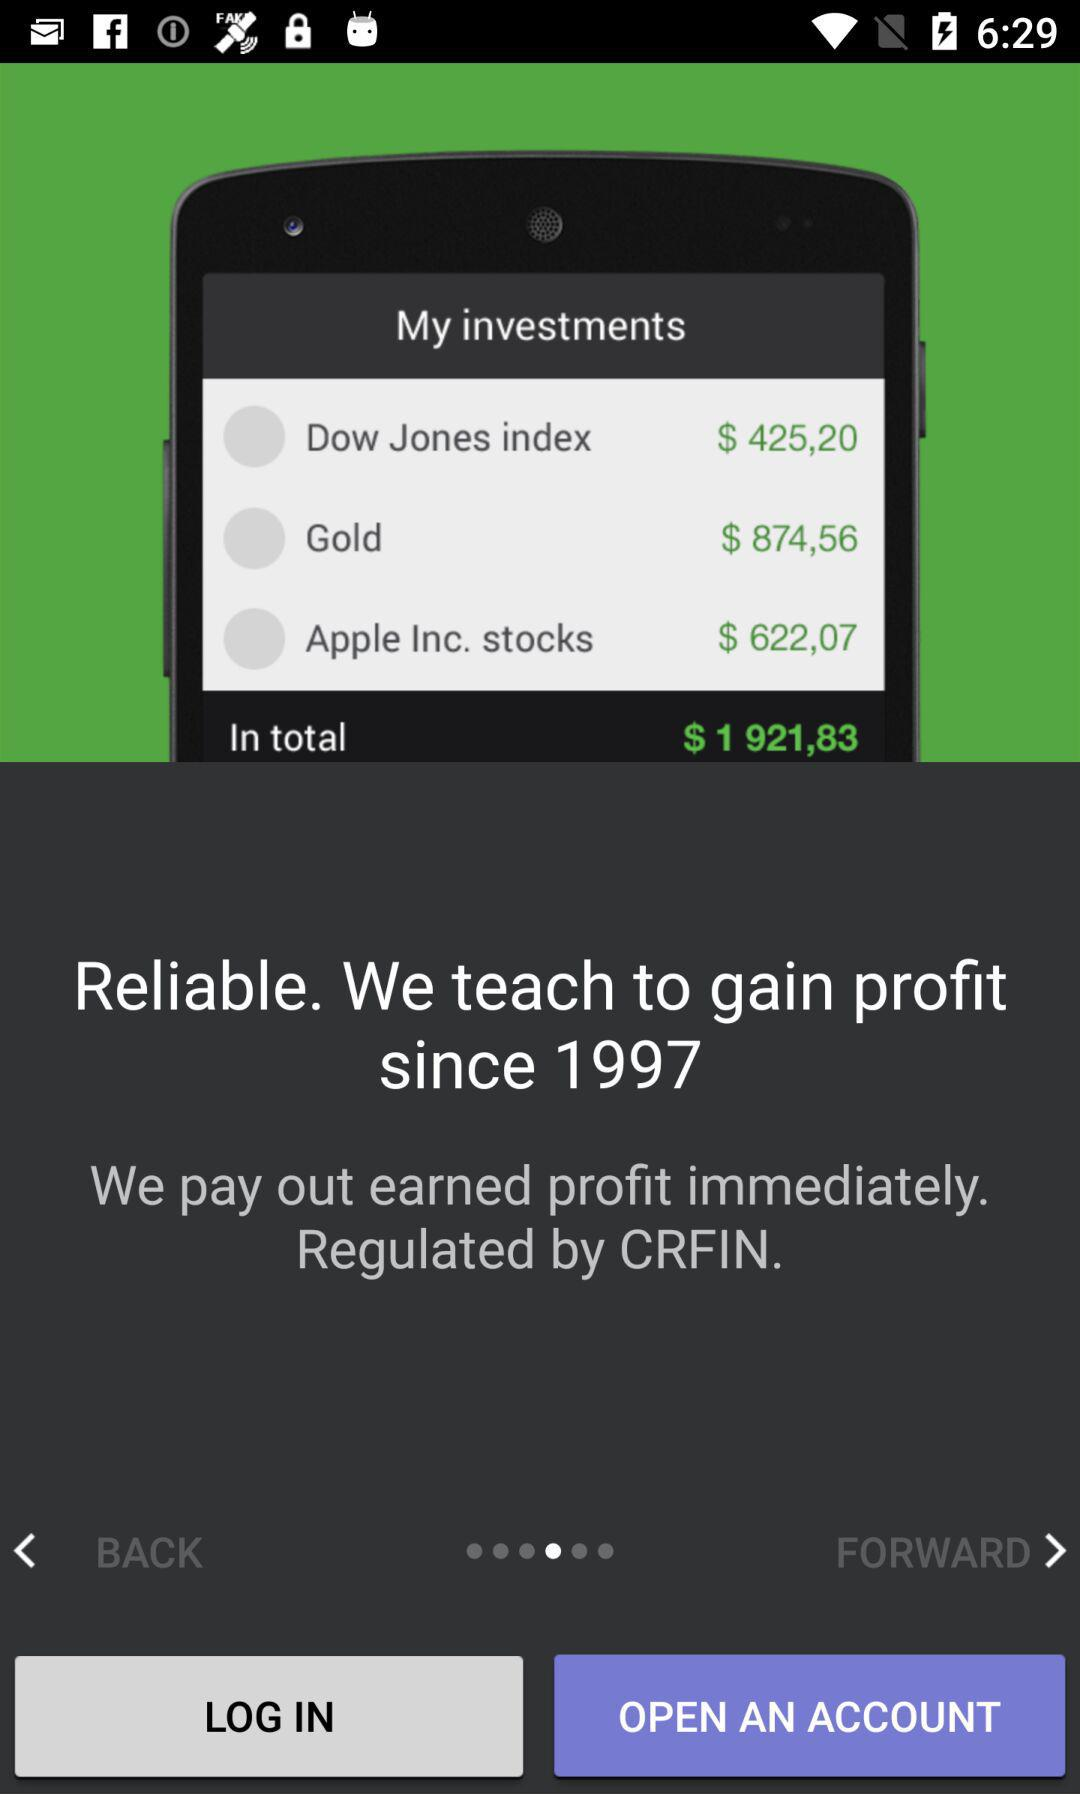Icon: (1043, 1533, 1068, 1568), (12, 1533, 37, 1568)
Image: (161, 147, 929, 762)
PageIndicator: (465, 1542, 616, 1562)
Text: (76, 956, 1010, 1093), (88, 1162, 988, 1281), (837, 1535, 1031, 1570), (96, 1535, 206, 1570)
TextButton: (553, 1654, 1066, 1779), (15, 1656, 525, 1779)
UpperTaskBar: (1, 1, 1080, 64)
